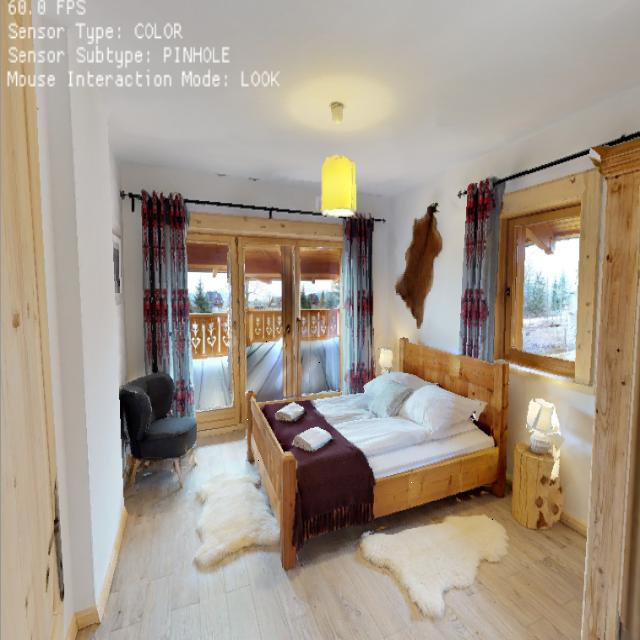bed: (243, 336, 518, 550)
sofa: (116, 369, 200, 488)
